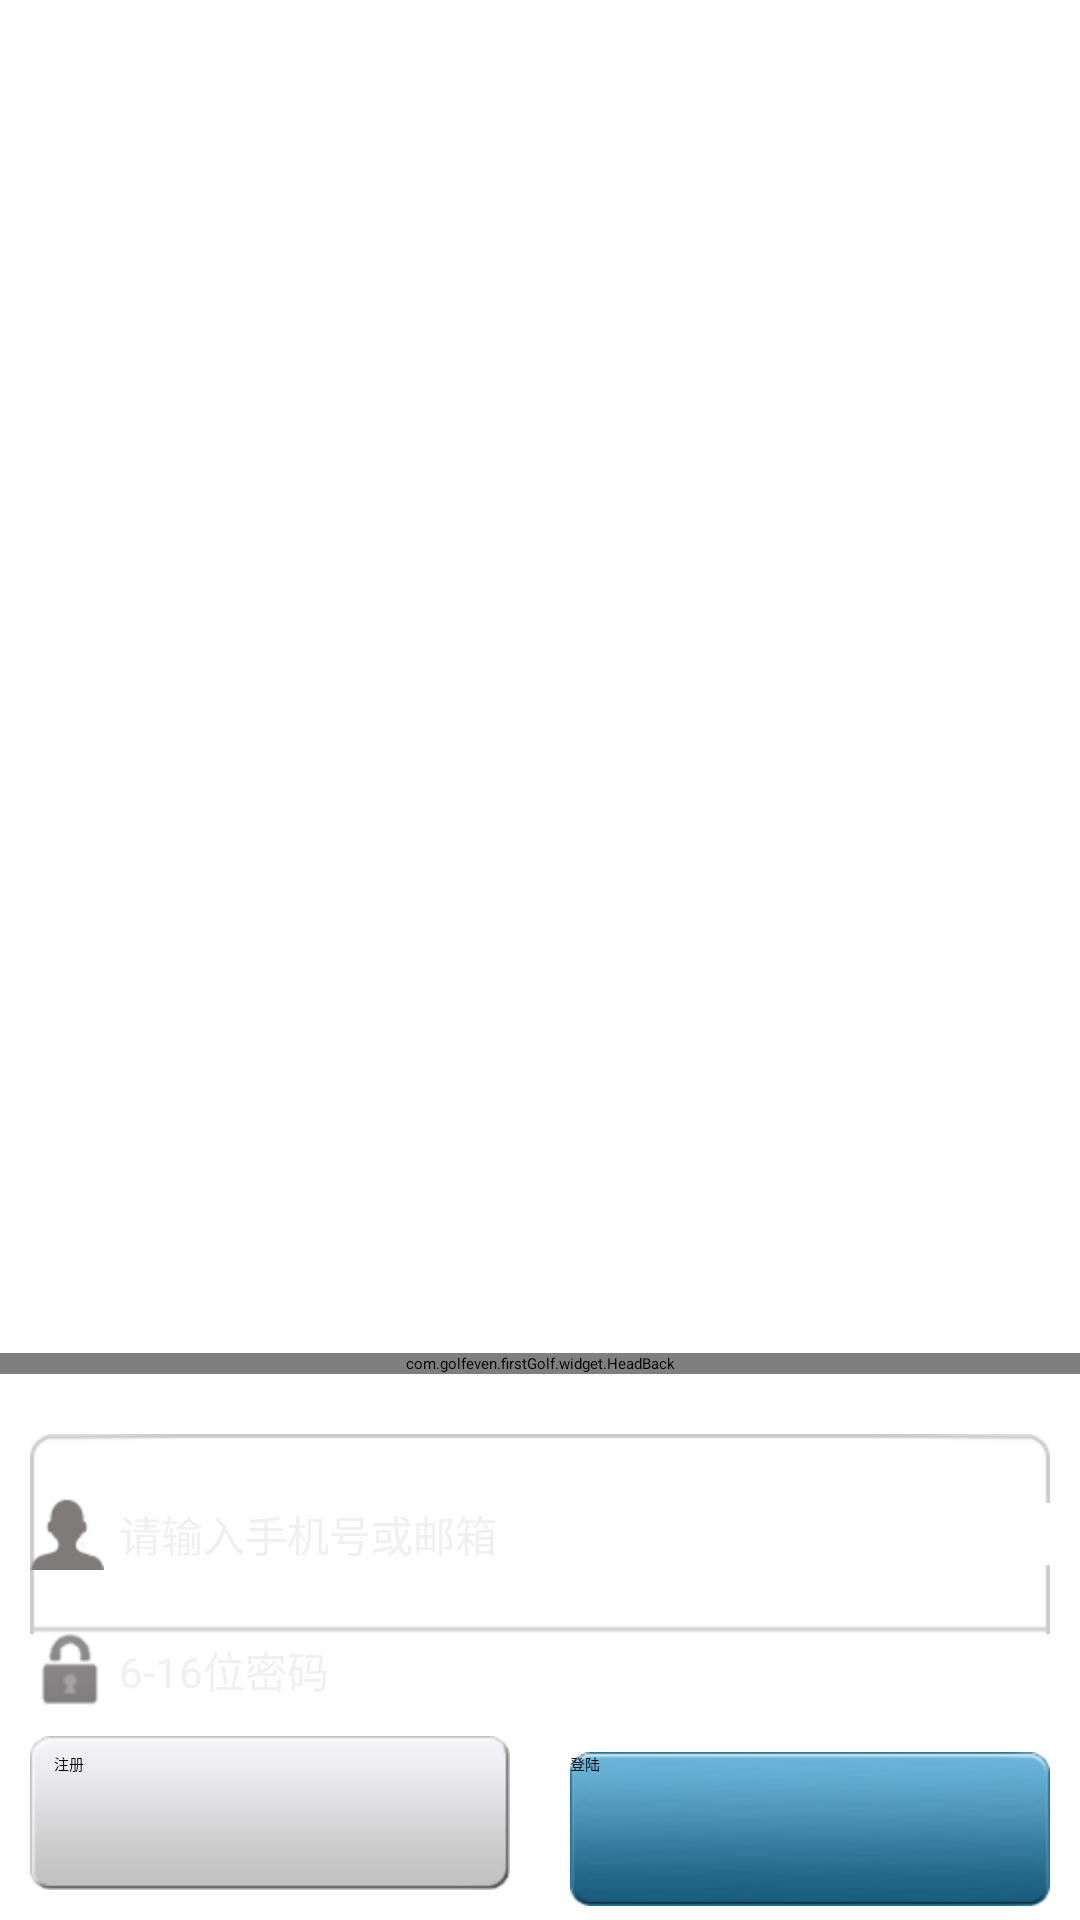

Point at icon controls on the screen. Image size 1080w x 1920h, points as (x=x, y=y).
secret: (x=70, y=1669)
